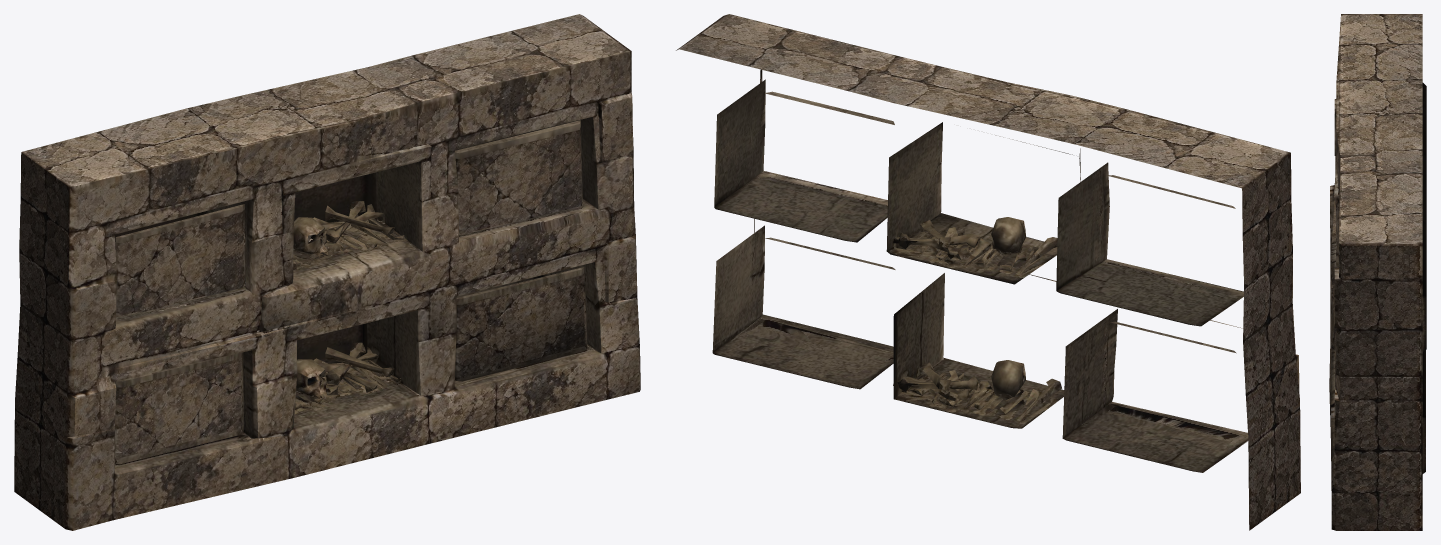
File: dungeon_crypt_wall.glb
The picture shows the model from 3 angles, left to right: view 1: azimuth 30°, elevation 25°; view 2: azimuth 150°, elevation 25°; view 3: azimuth 270°, elevation 25°; orthographic projection. The views are drawn at different scales.
Parts seen in each view (by area): view 1: crypt_wall; view 2: crypt_wall; view 3: crypt_wall.
Part boxes in pixels (box(x1,y1,x2,y2)): crypt_wall: box(14, 14, 640, 530); crypt_wall: box(676, 14, 1300, 530); crypt_wall: box(1329, 14, 1426, 530).
Bounding box in the file's own units: 0.9995 × 0.5669 × 0.1743.
1 material, 1 textured.
